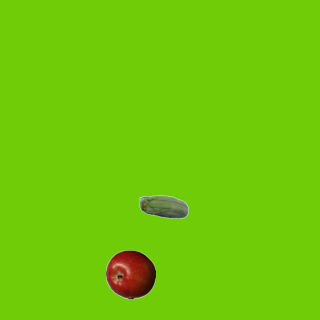Apple Braeburn: (105, 249, 155, 299)
Corn Husk: (138, 183, 188, 233)
